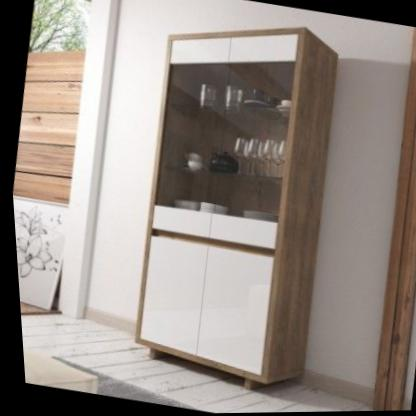Cupboard: (129, 28, 336, 388)
